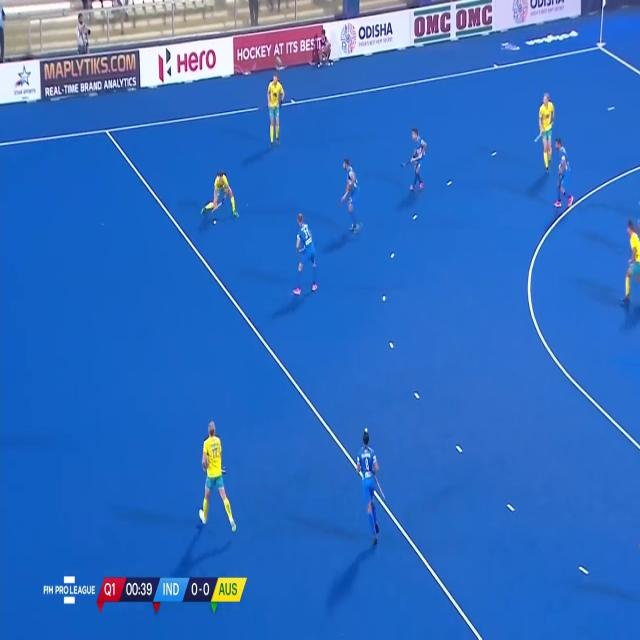ball: (211, 215, 218, 228)
